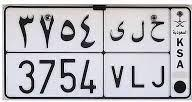3: (18, 15, 35, 94)
4: (80, 14, 96, 94)
5: (60, 19, 77, 93)
7: (38, 13, 55, 95)
J: (150, 21, 165, 88)
L: (130, 20, 145, 89)
V: (109, 21, 124, 88)
